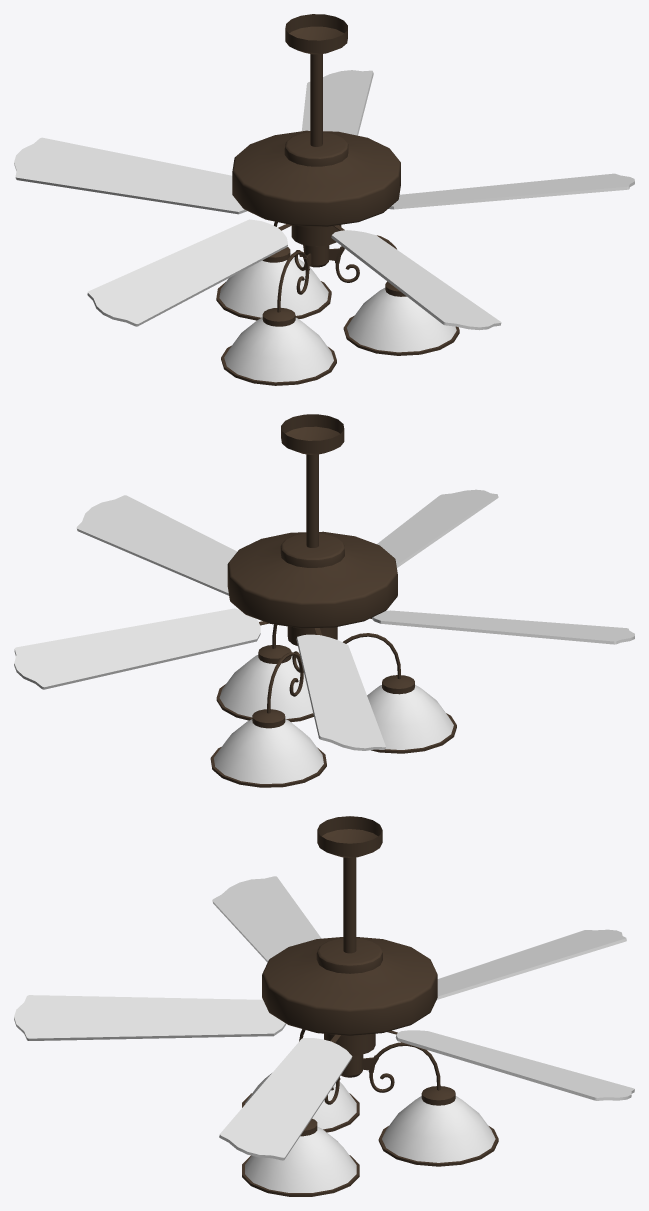
File: ceiling-fan.fbx
3 renders of one model, top to bottom at view 1: azimuth 30°, elevation 25°; view 2: azimuth 150°, elevation 25°; view 3: azimuth 270°, elevation 25°, orthographic. The views are drawn at different scales.
Parts seen in each view (by area): view 1: Ceiling Fan; view 2: Ceiling Fan; view 3: Ceiling Fan.
Boxes of the visible parts, left/top/right/bottom form: Ceiling Fan: left=14, top=14, right=634, bottom=385; Ceiling Fan: left=14, top=414, right=634, bottom=787; Ceiling Fan: left=14, top=816, right=634, bottom=1196.
Size of the model in its own units: 192 by 108 by 186.
